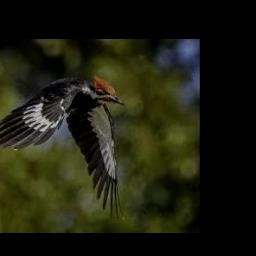Woodpecker: (0, 74, 125, 220)
